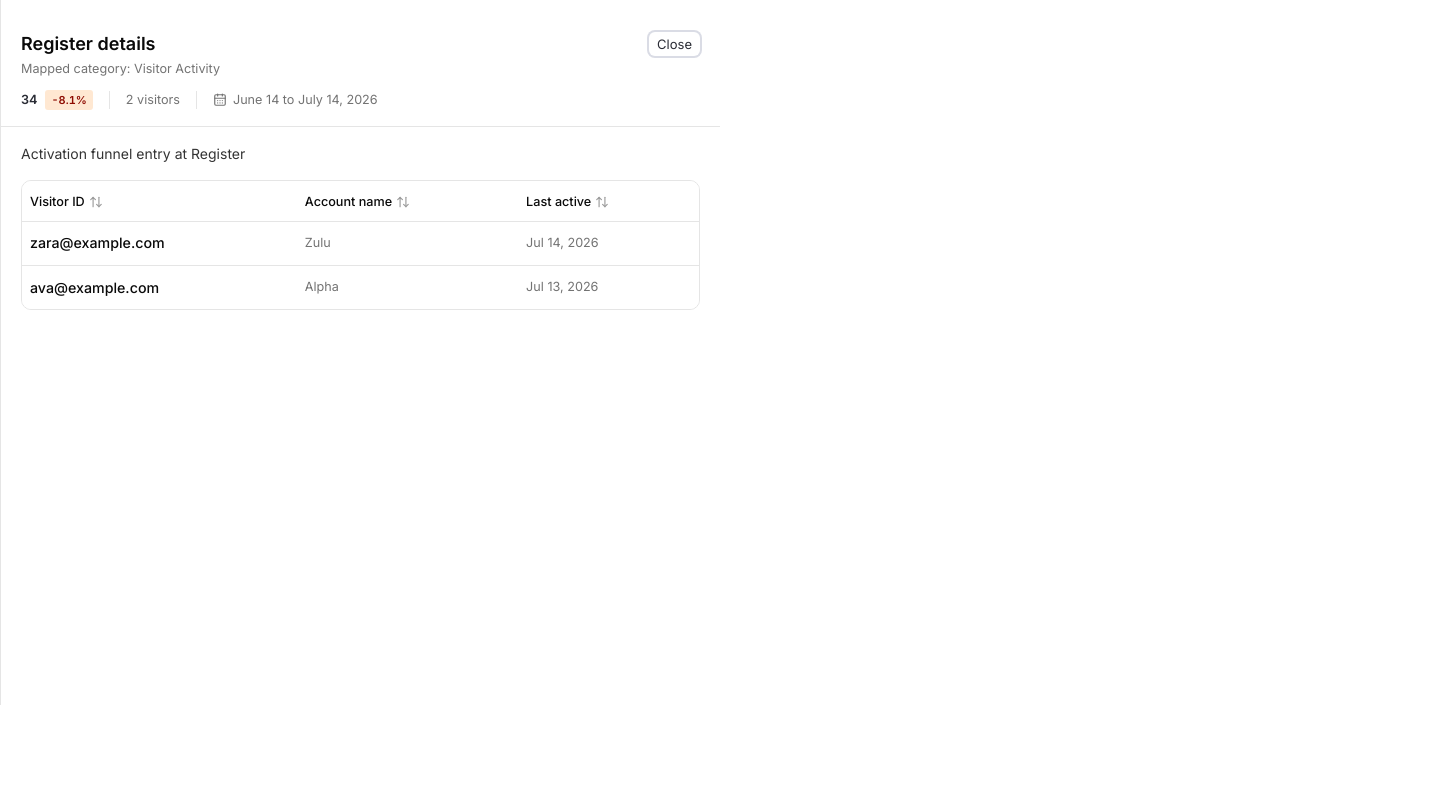
DashboardDrillSideBlade › sorts table rows from the production-style column controls
The width and height of the screenshot is (1440, 810).
Click the button with aria-label "Sort by Visitor ID". click: click(66, 202)
box: [30,193,103,212]
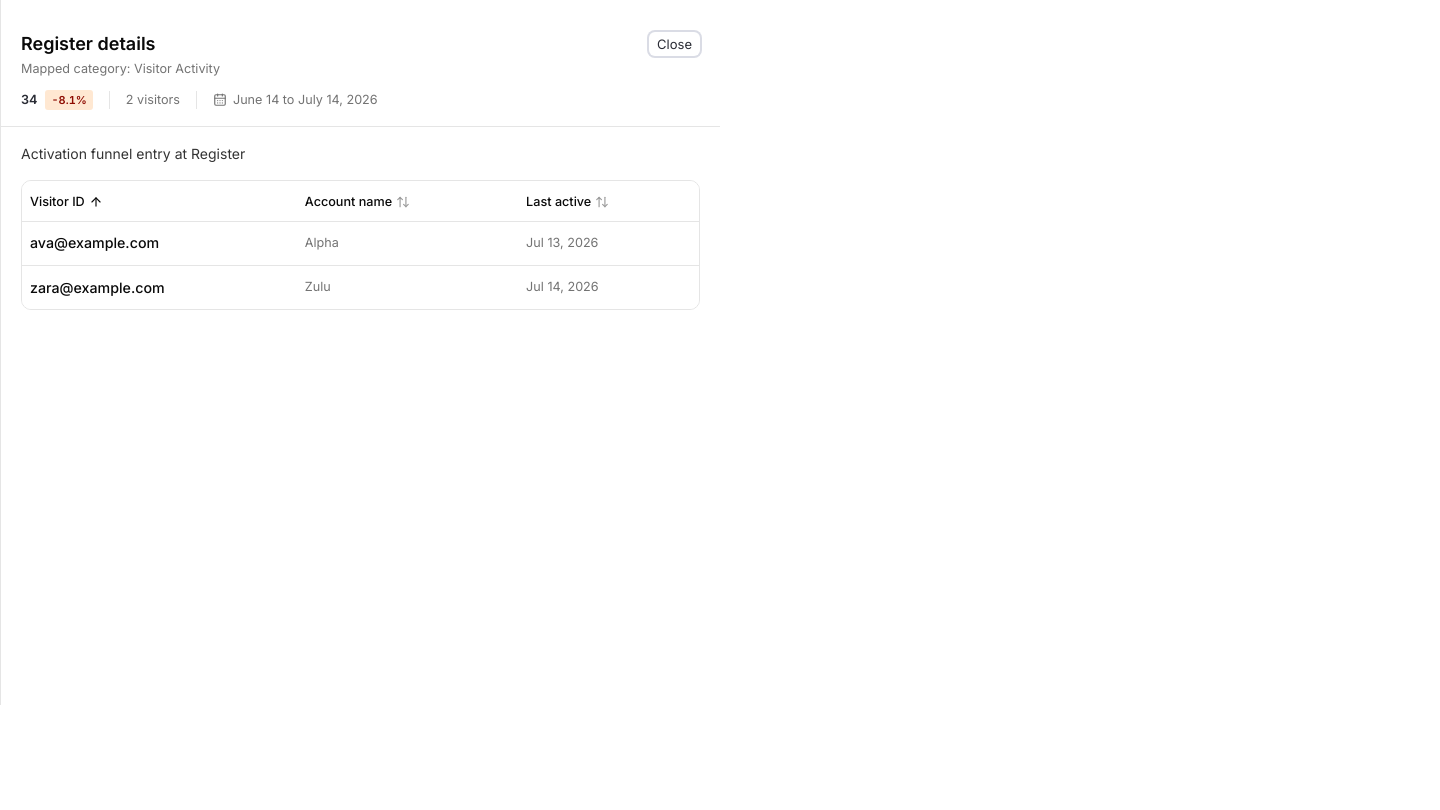
Result: the row "ava@example.com Alpha Jul 13, 2026" is shown at [22,221,699,265]
Click the button with aria-label "Sort by Visitor ID". click: click(66, 202)
box: [30,193,103,212]
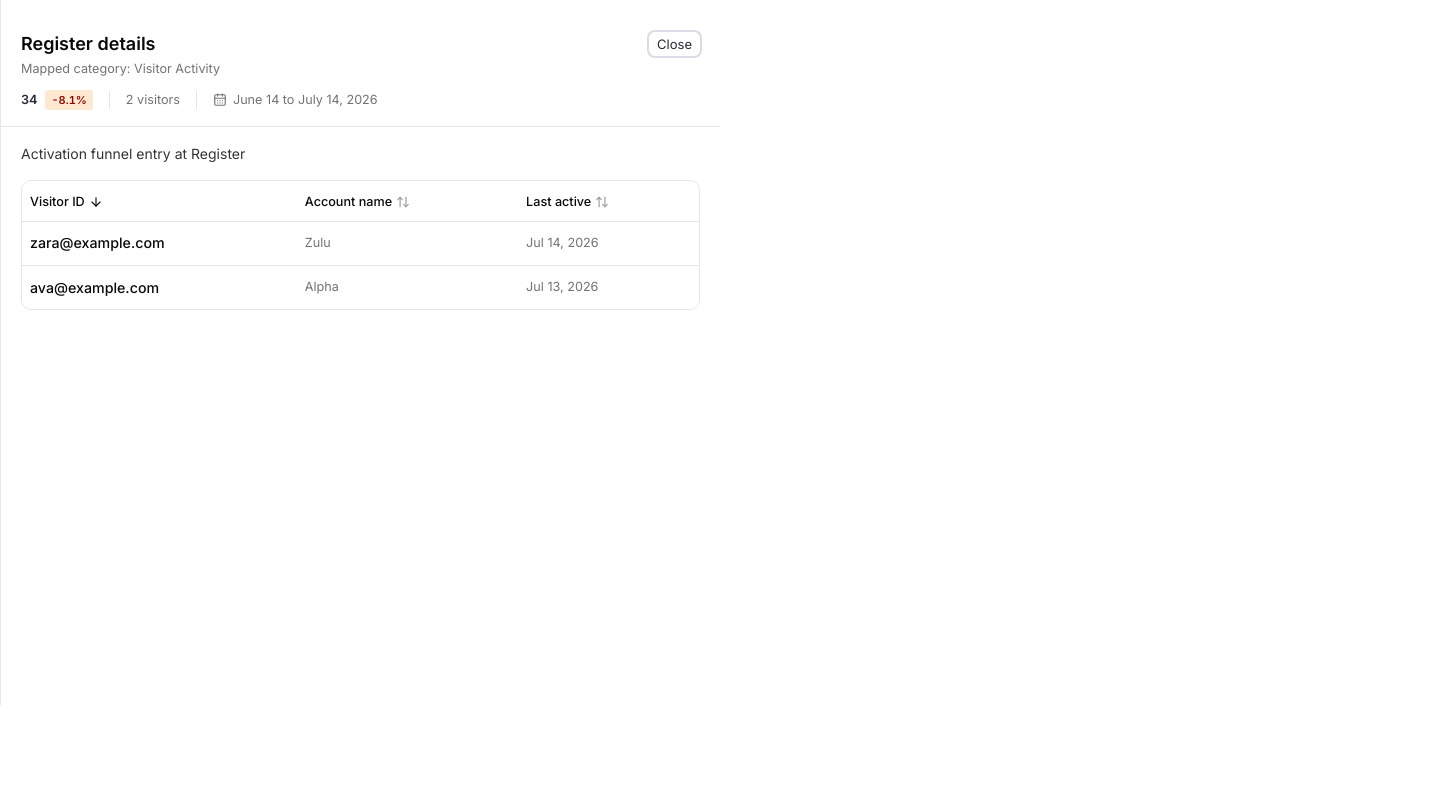
Result: the row "zara@example.com Zulu Jul 14, 2026" is shown at [22,221,699,265]
